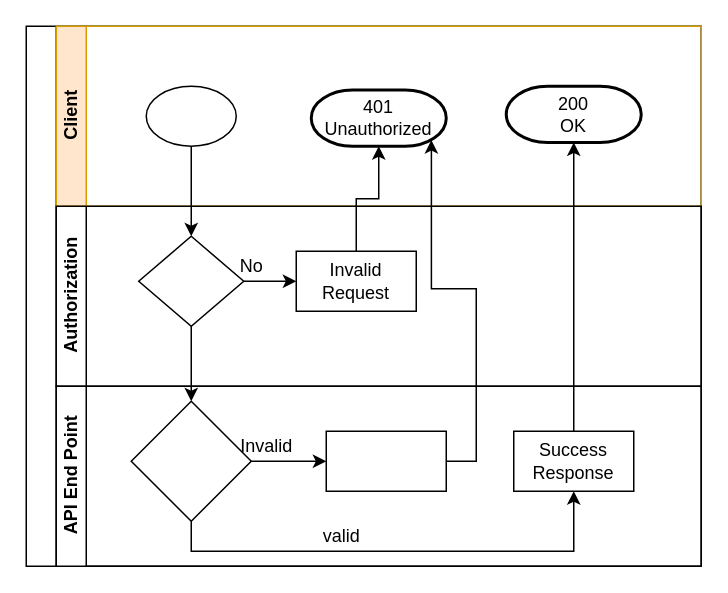
Image size: 728x593. Some labels were removed from this diagram. The centre of each missing label's shape, as x and y in pixels:
"API Key" belongs at [190,280].
"Error Response" belongs at [385,460].
"Request" belongs at [190,115].
"Verify APK Signature" belongs at [190,460].
